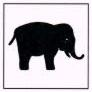Zoo: (0, 2, 92, 86)
